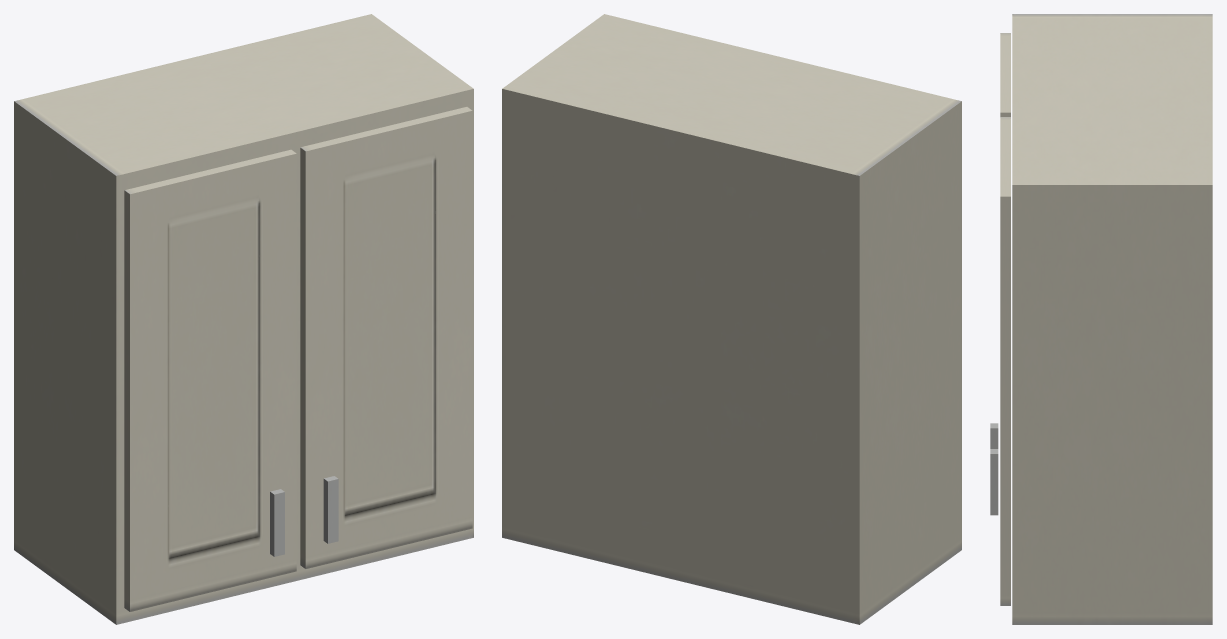
The model's file is cabinet_wall.glb.
The picture shows the model from 3 angles, left to right: view 1: azimuth 30°, elevation 25°; view 2: azimuth 150°, elevation 25°; view 3: azimuth 270°, elevation 25°; orthographic projection. The views are drawn at different scales.
Visible parts, largest first — view 1: home_cabinet_wall; view 2: home_cabinet_wall; view 3: home_cabinet_wall.
Boxes of the visible parts, x1,y1,x2,y2 form: home_cabinet_wall: [14, 14, 473, 624]; home_cabinet_wall: [502, 14, 961, 624]; home_cabinet_wall: [990, 14, 1212, 624].
Size of the model in its own units: 0.6 by 0.72 by 0.33.
1 material, 1 textured.
